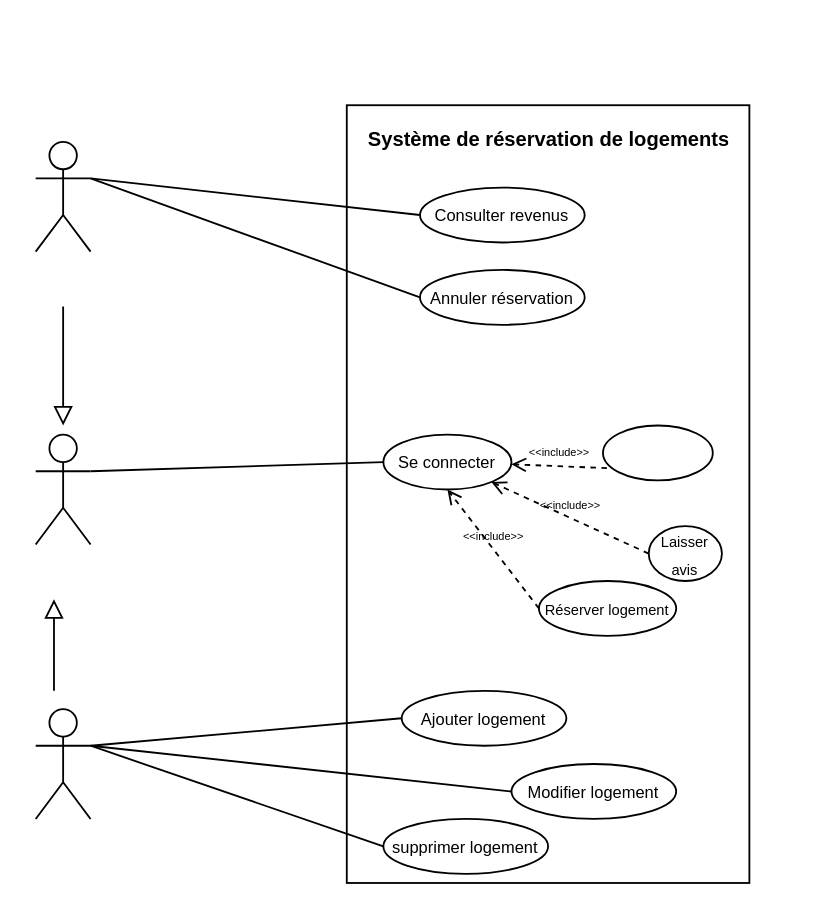
Some shapes in this 836 by 915 pixel diagram are drawn without their labels. The shapes that lost their labels are listed below. From the top down, each one's centre as x and y in pixels, then its label:
At (x=62, y=196): "Admin".
At (x=657, y=452): "Rechercher logement".
At (x=62, y=488): "User".
At (x=62, y=763): "Host".
